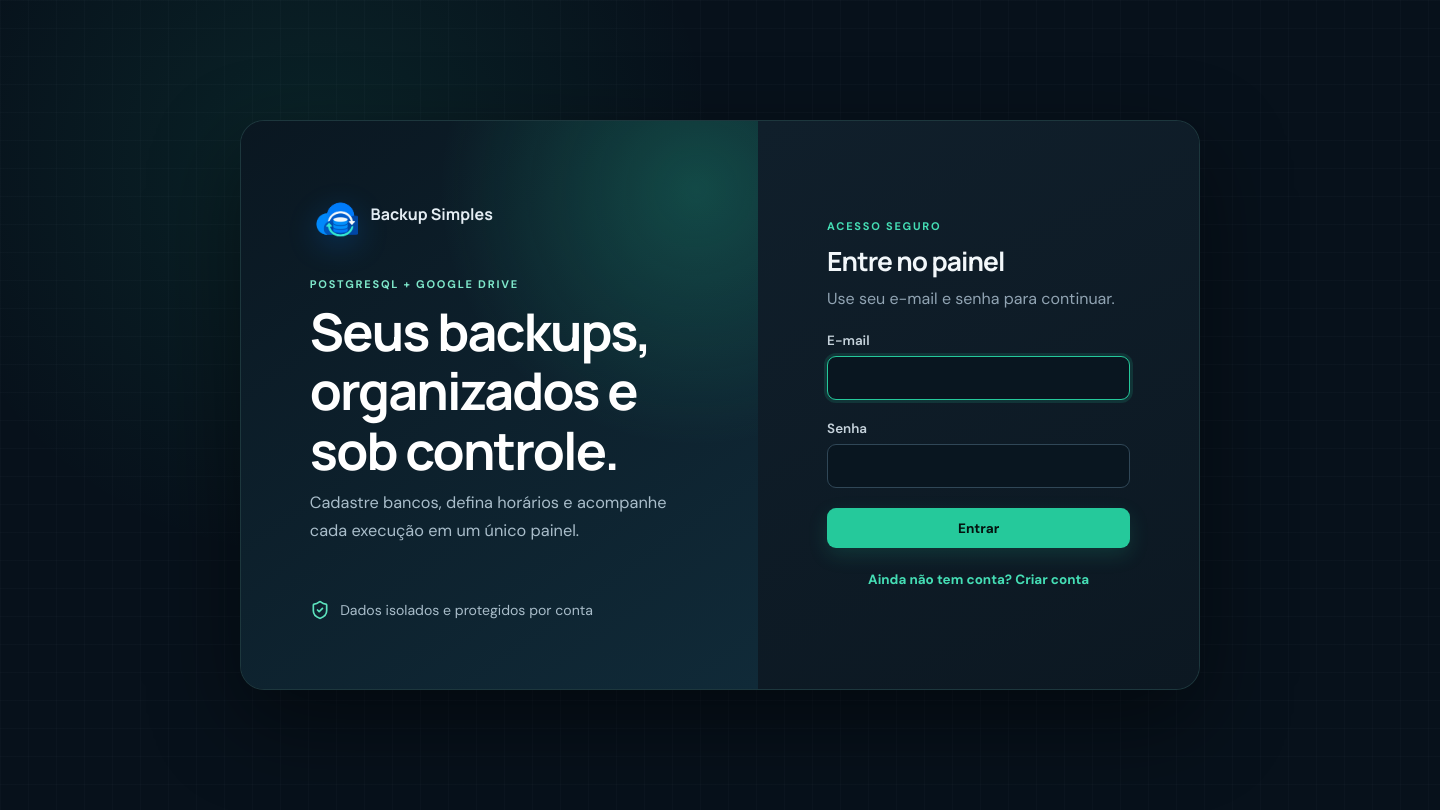
Test case: App › exibe login e abre o painel após autenticar
Step 1. Type "ana@example.com" into the field labelled "E-mail" → (979, 378), box [827,356,1130,400]
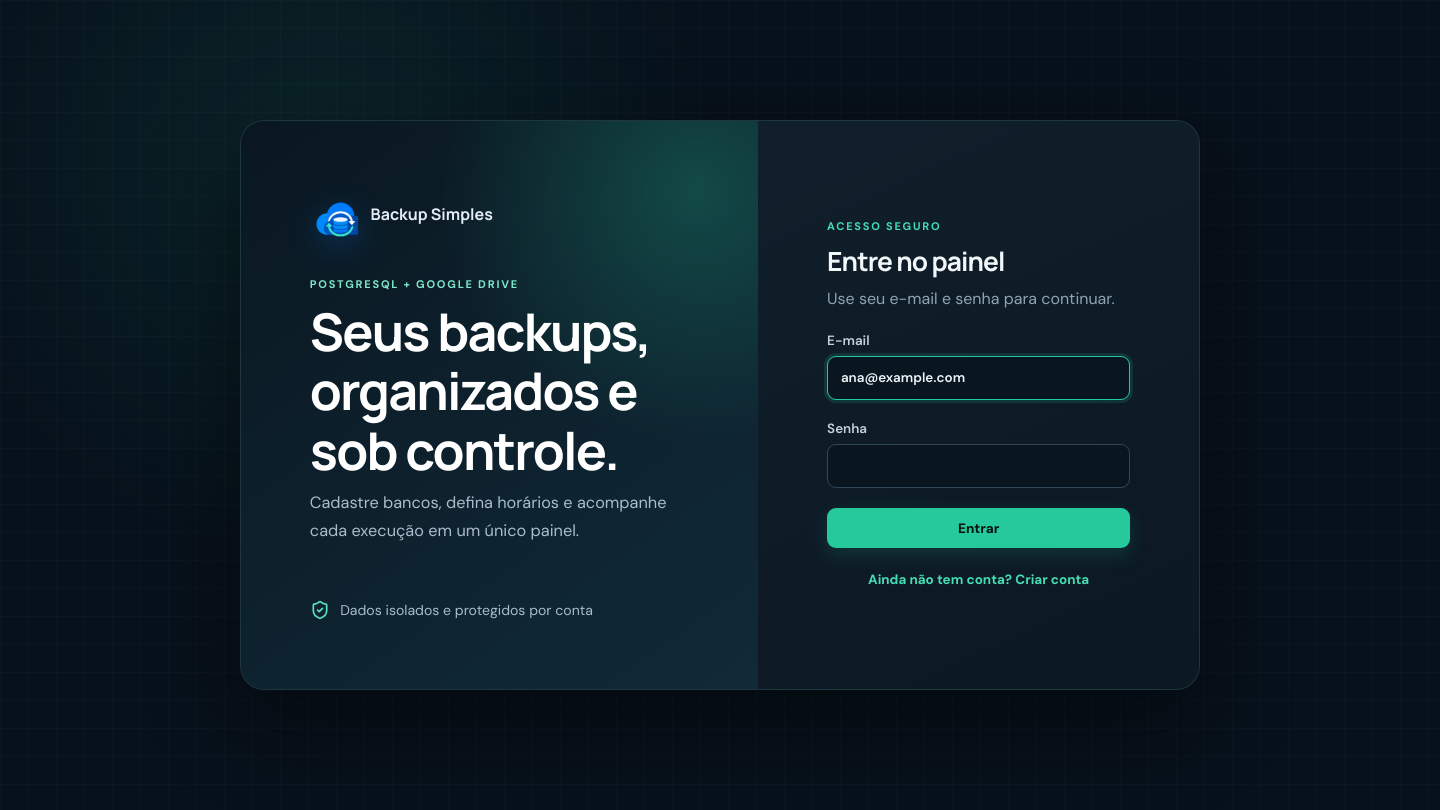
Step 2. Type "secret" into the password field labelled "Senha" → (979, 466), box [827,444,1130,488]
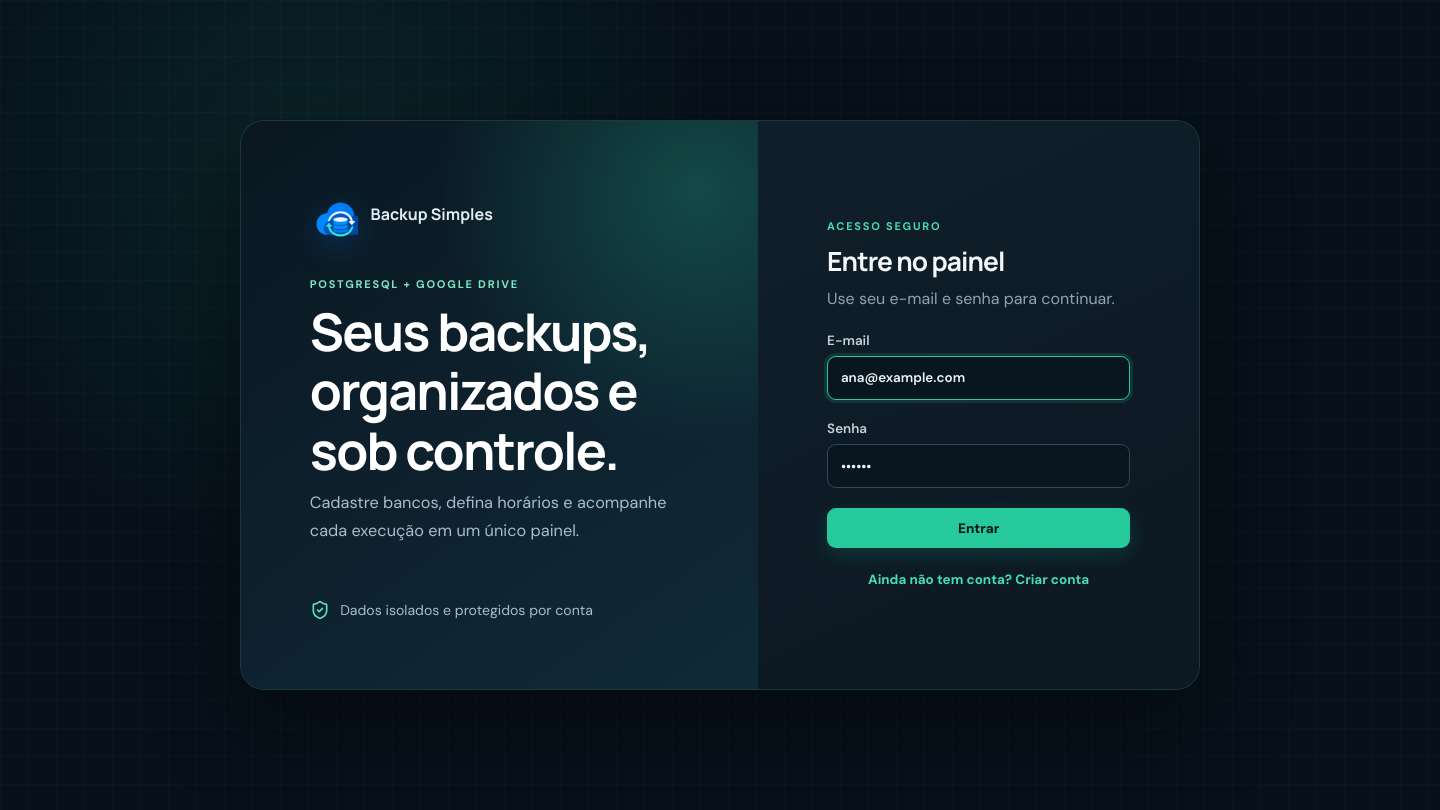
Step 3. Click the button "Entrar" → (979, 528), box [827,508,1130,548]
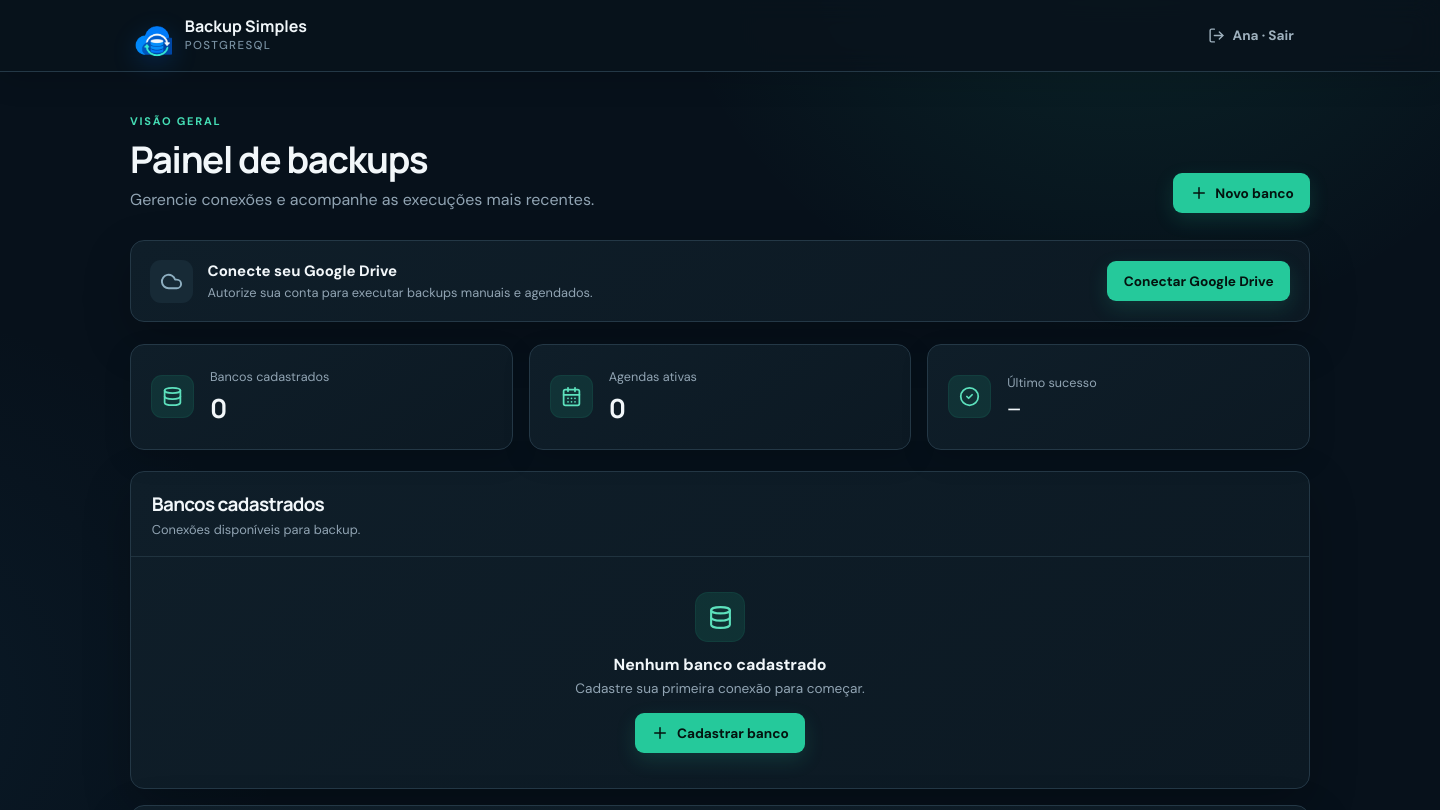
Expected: the heading "Painel de backups" is shown, [130,134,427,184]
Expected: the text "Nenhum banco cadastrado" is shown, [614,654,826,675]
